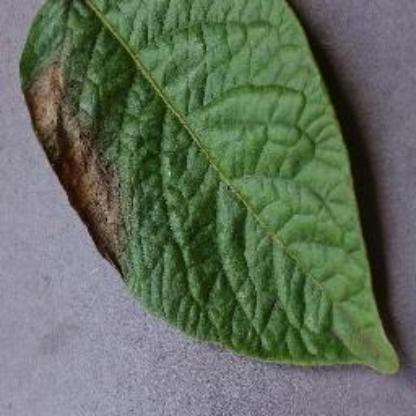Late-Blight: (17, 0, 403, 378)
